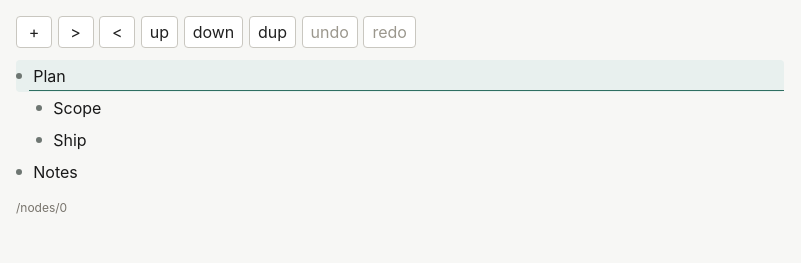
outliner-blind-a › exposes compact toolbar commands
Click the 2nd field showing "Notes" at [407, 172], box [29, 156, 784, 187]
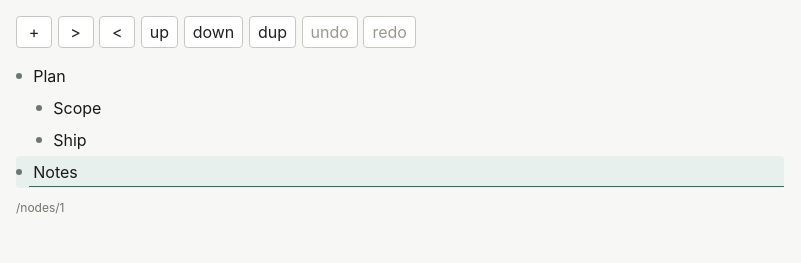
Click the button "+" at [34, 32], box [16, 16, 52, 48]
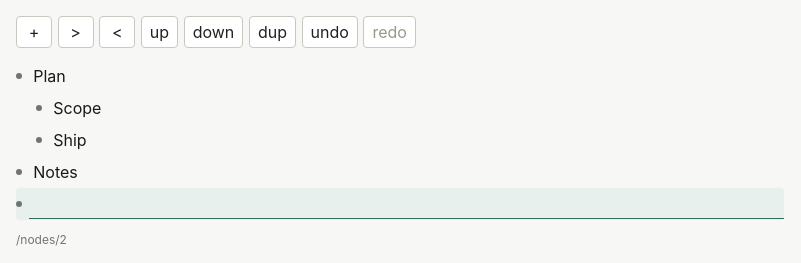
Check: the number of fields is 5, box [29, 60, 784, 91]; [49, 92, 784, 123]; [49, 124, 784, 155]; [29, 156, 784, 187]; [29, 188, 784, 219]
